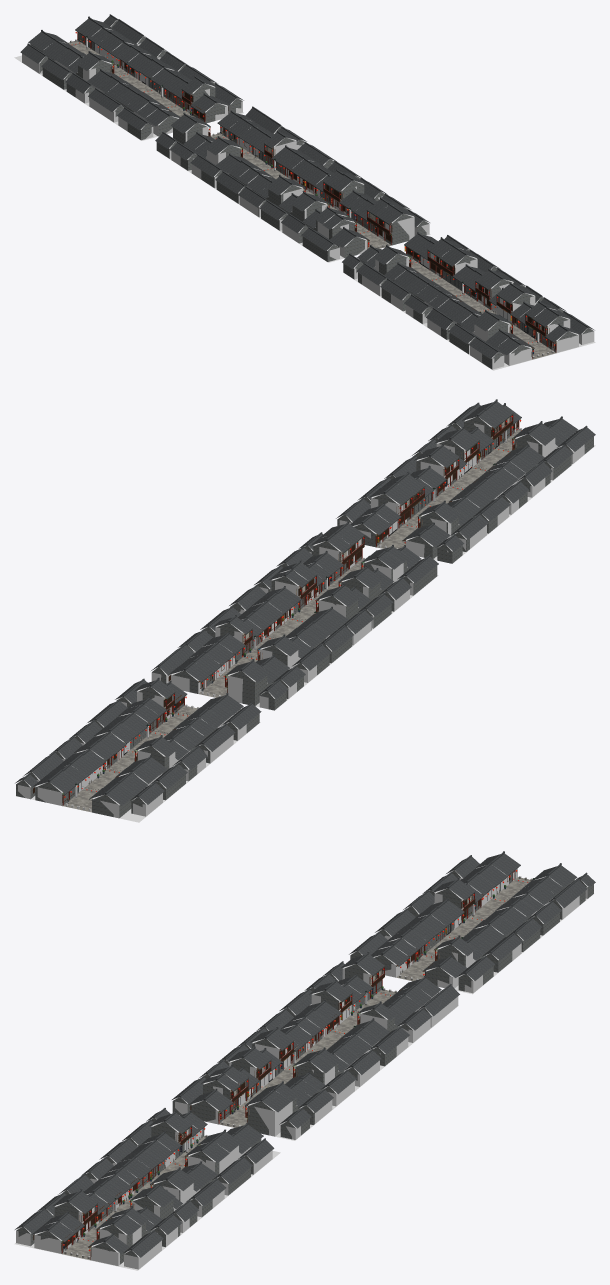
File: nanluo_n1.glb
3 views of the same model, one above another, from view 1: azimuth 30°, elevation 25°; view 2: azimuth 150°, elevation 25°; view 3: azimuth 330°, elevation 25° (orthographic). The views are drawn at different scales.
Visible parts, largest first — view 1: Lane, Massing; view 2: Lane, Massing; view 3: Lane, Massing, COL_lot203.
Part boxes in pixels (x1,y1,x2,y2): Lane: (27,14,593,369); Massing: (20,18,593,368); Lane: (16,399,593,817); Massing: (15,401,595,815); Lane: (16,851,593,1264); Massing: (15,853,595,1264); COL_lot203: (248,1101,288,1136).
Size of the model in its own units: 43.95 by 8.83 by 231.
40 materials, 18 textured.
